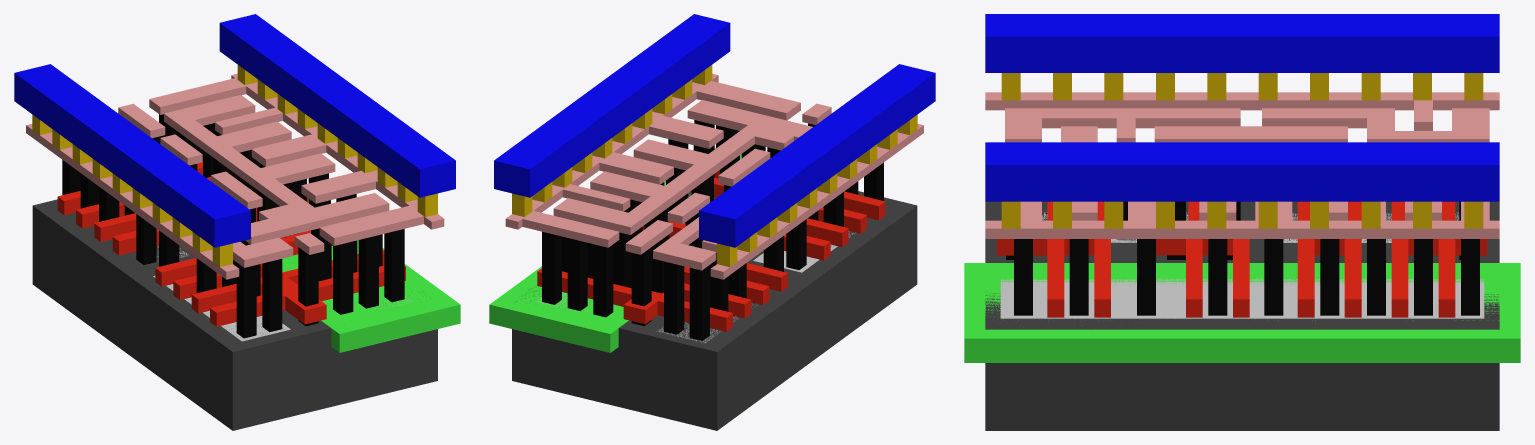
Rendered from sky130_fd_sc_hd__nand4_2.obj.
3 renders of one model, left to right at view 1: azimuth 30°, elevation 25°; view 2: azimuth 150°, elevation 25°; view 3: azimuth 270°, elevation 25°, orthographic. The views are drawn at different scales.
Visible parts, largest first — view 1: subs, metal1, li, licon, poly, nwell, mcon, diff; view 2: subs, metal1, li, licon, poly, nwell, mcon, diff; view 3: metal1, subs, li, nwell, poly, licon, mcon, tap.
Boxes of the visible parts, left/top/right/bottom form: subs: left=32, top=199, right=437, bottom=430; metal1: left=14, top=14, right=455, bottom=247; li: left=26, top=73, right=444, bottom=279; licon: left=62, top=114, right=404, bottom=338; poly: left=57, top=161, right=405, bottom=326; nwell: left=282, top=199, right=460, bottom=352; mcon: left=32, top=65, right=437, bottom=266; diff: left=153, top=246, right=290, bottom=341; subs: left=512, top=191, right=917, bottom=430; metal1: left=494, top=14, right=935, bottom=247; li: left=505, top=73, right=923, bottom=279; licon: left=542, top=120, right=883, bottom=340; poly: left=537, top=170, right=885, bottom=331; nwell: left=489, top=148, right=741, bottom=352; mcon: left=512, top=65, right=917, bottom=266; diff: left=656, top=231, right=855, bottom=342; metal1: left=985, top=14, right=1499, bottom=201; subs: left=985, top=201, right=1499, bottom=430; li: left=985, top=92, right=1499, bottom=238; nwell: left=964, top=263, right=1520, bottom=362; poly: left=997, top=201, right=1487, bottom=317; licon: left=1006, top=201, right=1479, bottom=315; mcon: left=1001, top=73, right=1483, bottom=228; tap: left=1000, top=278, right=1484, bottom=318.
Bounding box in the file's own units: 3.2 × 2.74 × 4.98.
